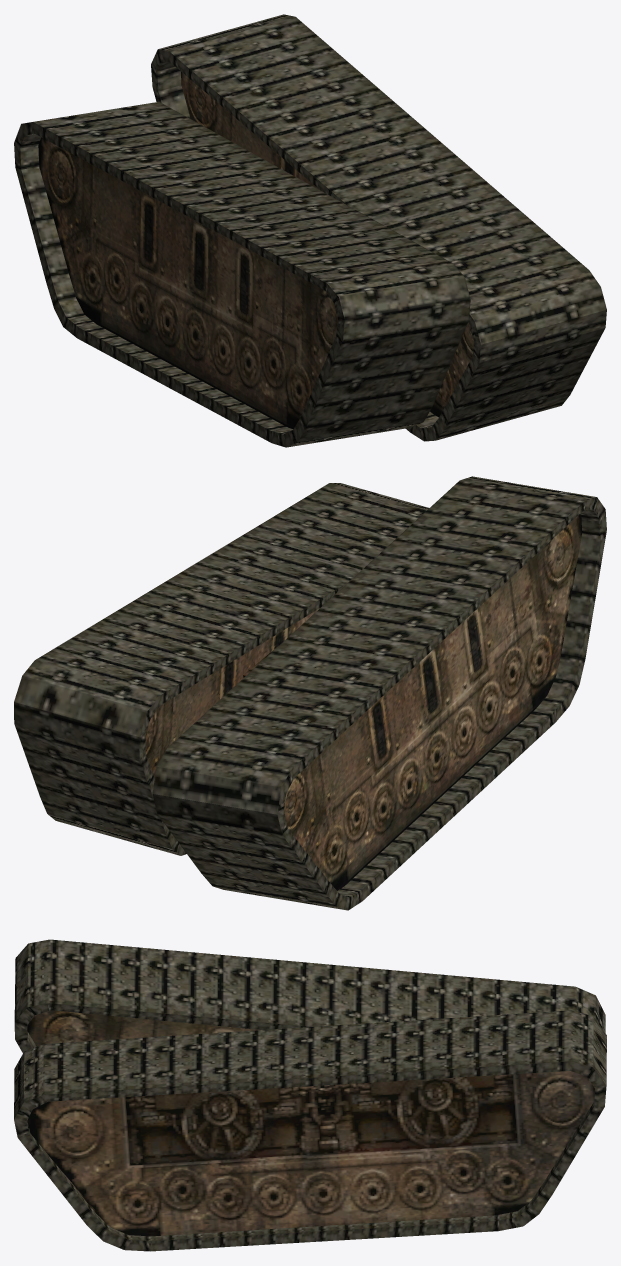
The model's file is poi_all_sandcrawler_debris_01_l0.fbx.
3 views of the same model, one above another, from view 1: azimuth 30°, elevation 25°; view 2: azimuth 150°, elevation 25°; view 3: azimuth 270°, elevation 25° (orthographic). The views are drawn at different scales.
Parts seen in each view (by area): view 1: mesh_node; view 2: mesh_node; view 3: mesh_node.
Boxes of the visible parts, box(x1,y1,x2,y2) form: mesh_node: box(14, 14, 606, 447); mesh_node: box(14, 476, 606, 910); mesh_node: box(14, 939, 606, 1251).
Bounding box in the file's own units: 5.82 × 4.67 × 11.96.
